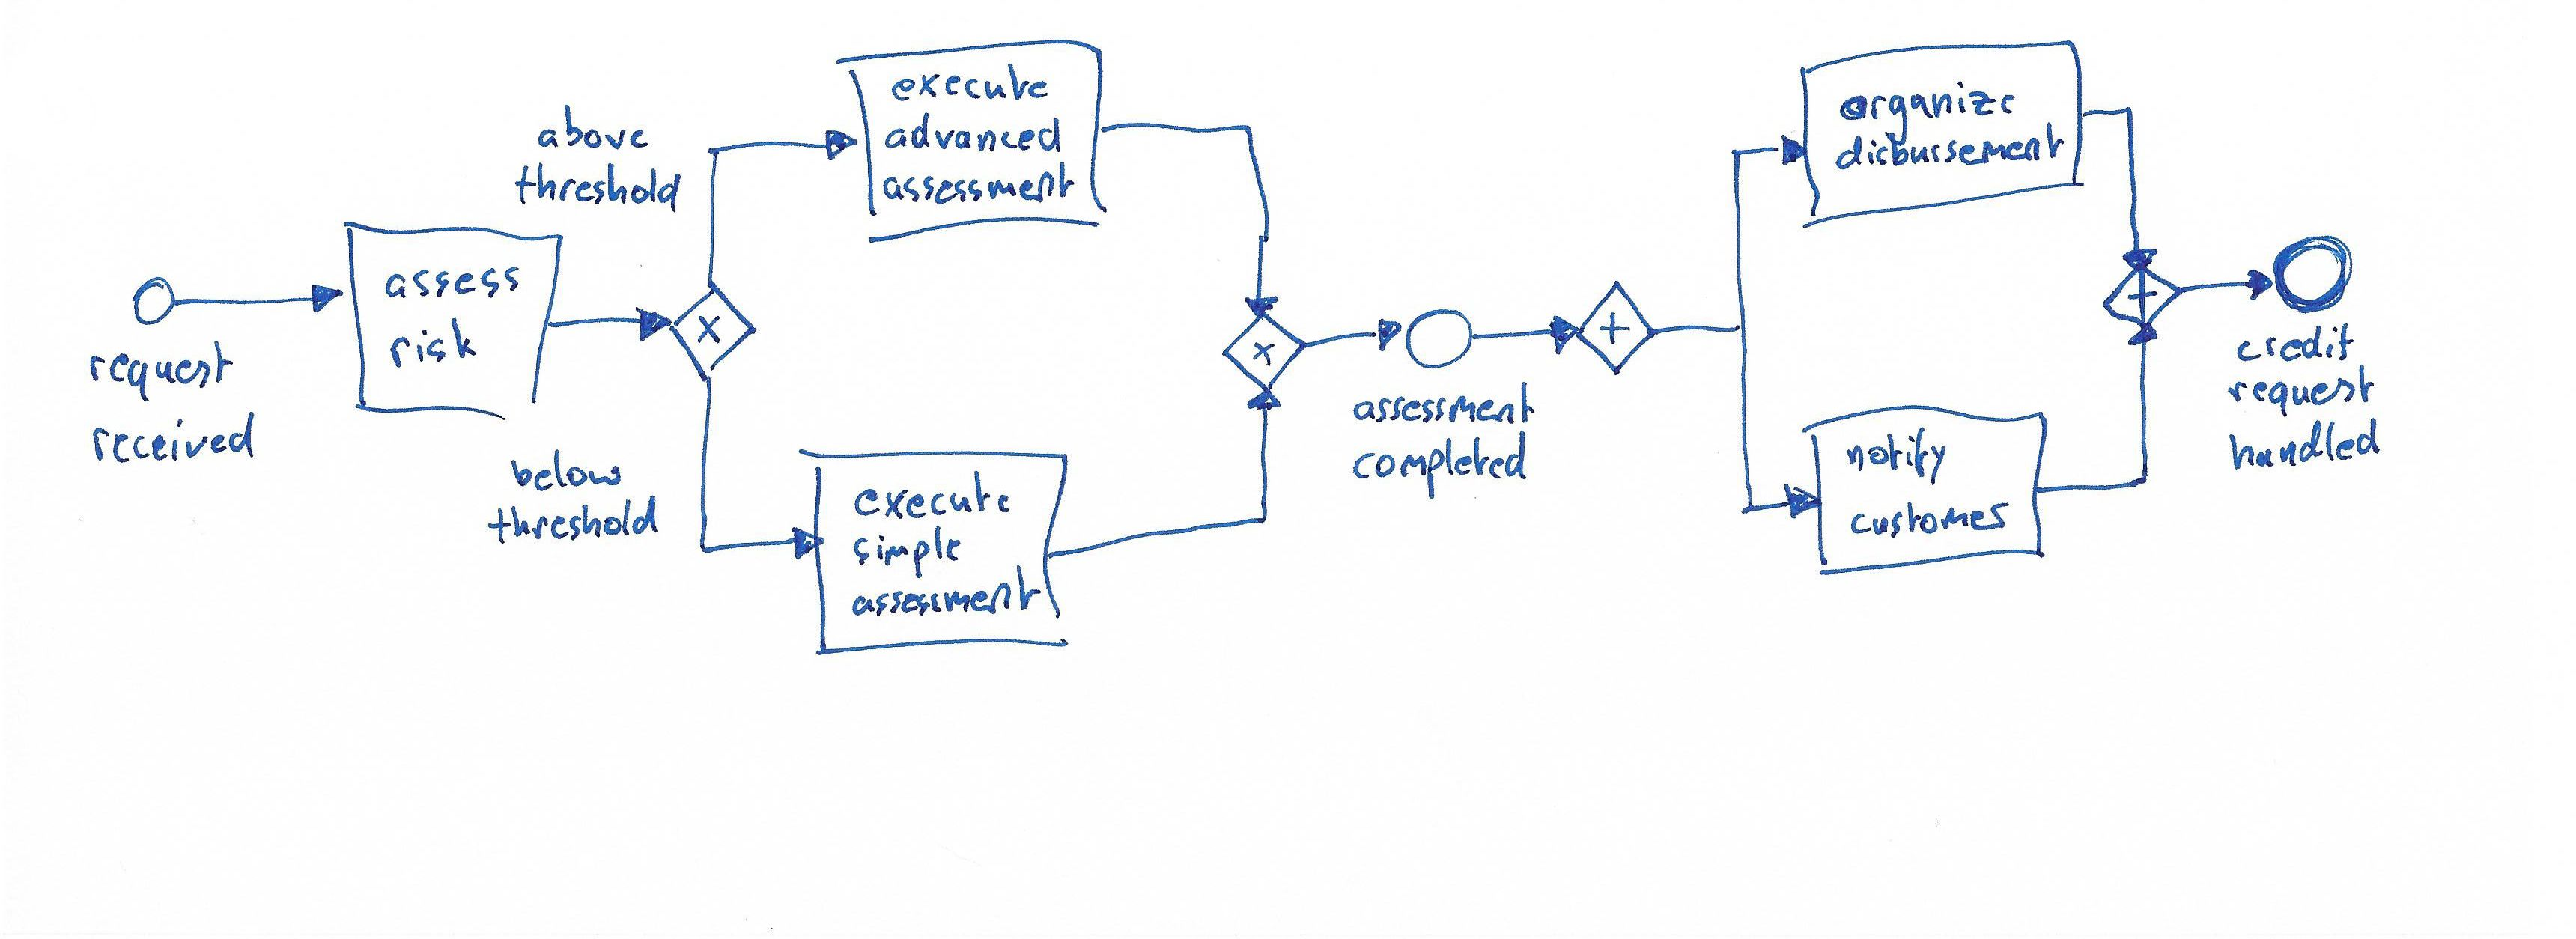above: (534, 98, 654, 156)
advanced: (881, 108, 1065, 158)
assess: (381, 263, 526, 302)
assessment: (848, 561, 1045, 624), (877, 159, 1078, 208), (1349, 378, 1539, 428)
below: (506, 445, 626, 496)
completed: (1349, 428, 1531, 502)
credit: (2231, 320, 2359, 368)
customer: (1845, 497, 2014, 540)
disbursement: (1830, 118, 2068, 174)
execute: (851, 468, 1014, 524), (887, 59, 1053, 105)
handled: (2224, 414, 2382, 474)
notify: (1842, 425, 1950, 489)
organize: (1835, 77, 2019, 151)
received: (87, 409, 260, 470)
request: (85, 338, 238, 405), (2223, 361, 2380, 420)
risk: (386, 314, 480, 371)
simple: (849, 522, 966, 583)
threshold: (511, 158, 685, 218), (483, 492, 662, 548)
